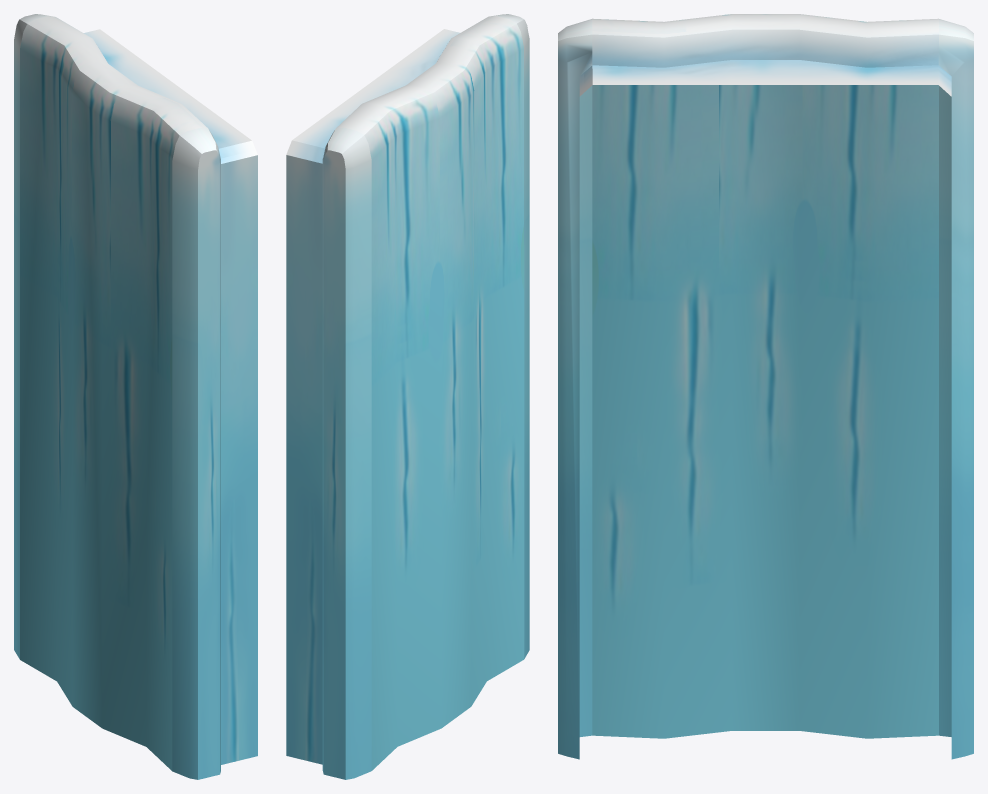
Rendered from High_Dike_End.FBX.
3 renders of one model, left to right at view 1: azimuth 30°, elevation 25°; view 2: azimuth 150°, elevation 25°; view 3: azimuth 270°, elevation 25°, orthographic. The views are drawn at different scales.
Parts seen in each view (by area): view 1: Object306; view 2: Object306; view 3: Object306.
Part boxes in pixels (x1,y1,x2,y2): Object306: (14,14,257,779); Object306: (286,14,529,779); Object306: (558,14,973,759).
Size of the model in its own units: 134 by 925 by 482.
